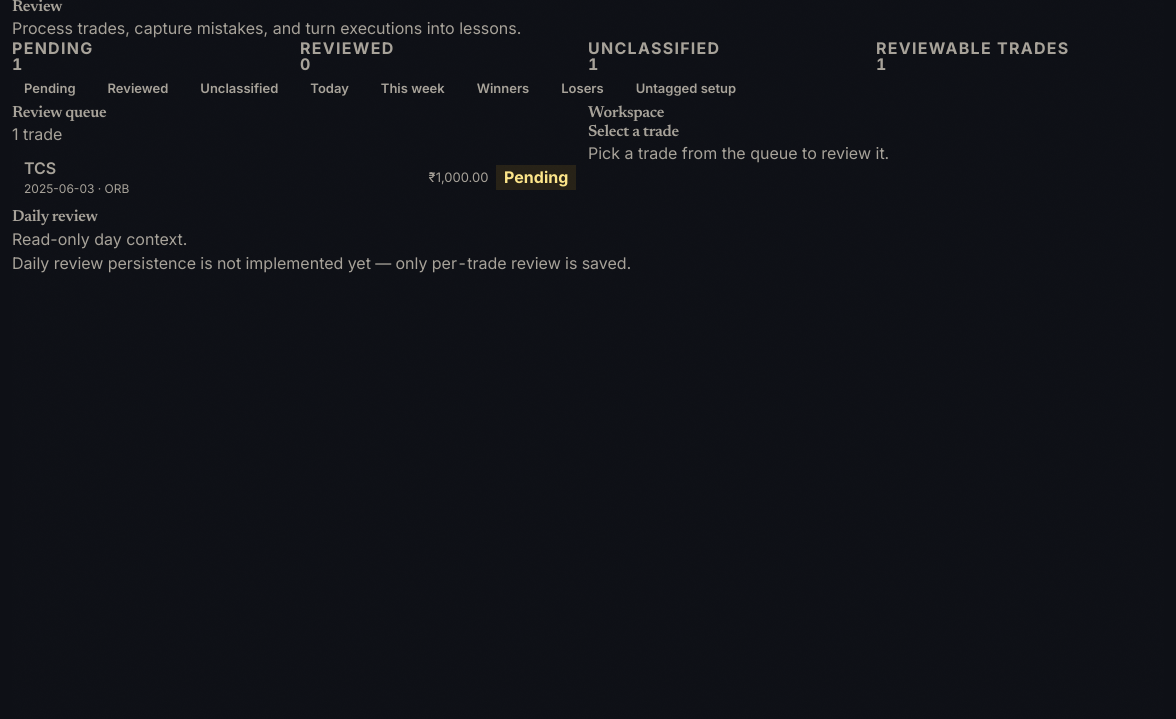
ReviewV3Page › selecting trade opens workspace with context
Click the text "TCS" at (40, 168), box left=24, top=158, right=56, bottom=178
(page scrolled)
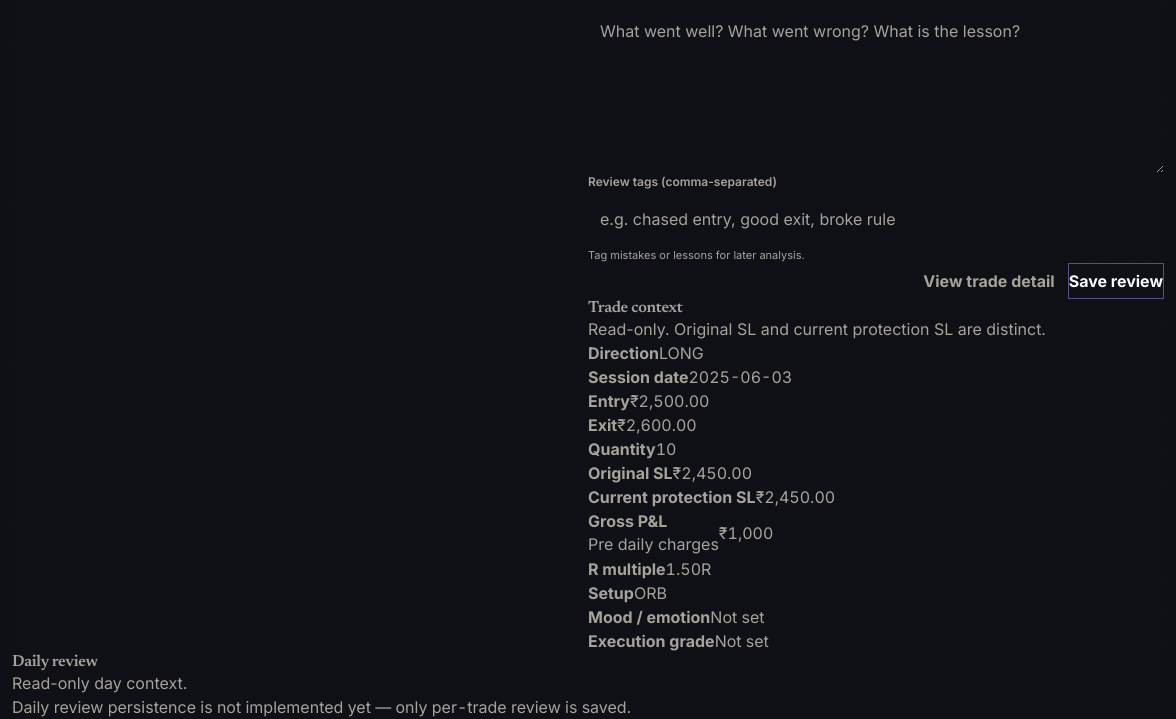
Expected: the heading "Trade context" is shown, left=588, top=300, right=682, bottom=316
Expected: the text "Original SL" is shown, left=588, top=461, right=673, bottom=485
Expected: the text "Current protection SL" is shown, left=588, top=485, right=756, bottom=509
